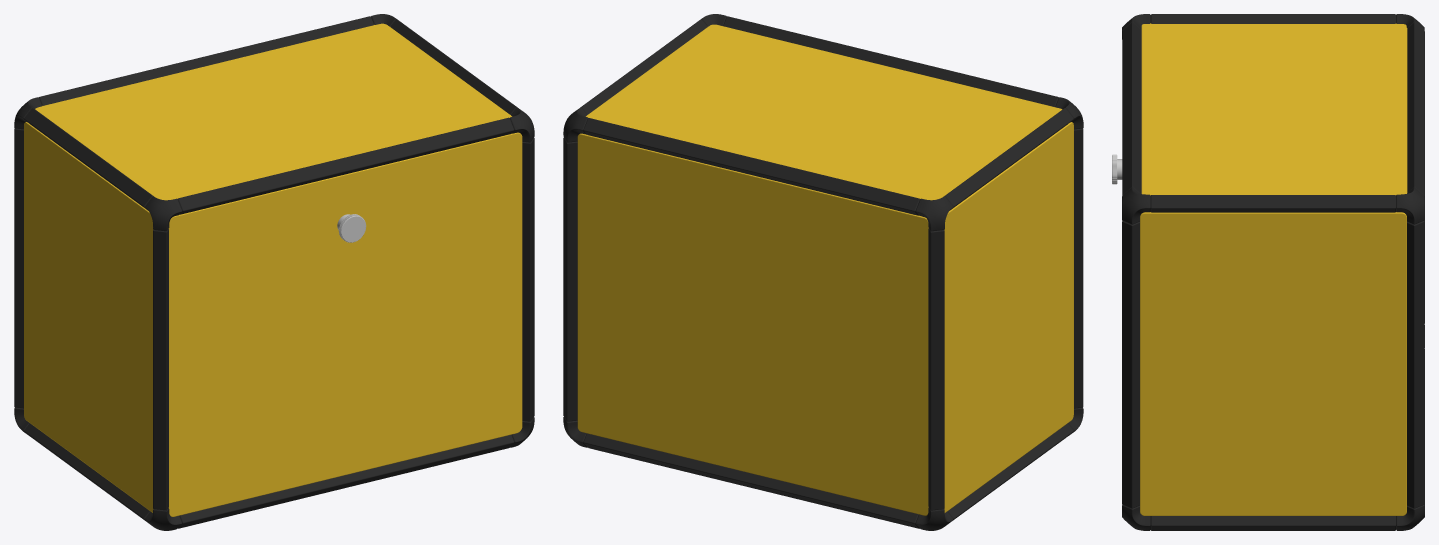
3 renders of one model, left to right at view 1: azimuth 30°, elevation 25°; view 2: azimuth 150°, elevation 25°; view 3: azimuth 270°, elevation 25°, orthographic.
Visible parts, largest first — view 1: 523x329x420; view 2: 523x329x420; view 3: 523x329x420.
Boxes of the visible parts, x1,y1,x2,y2 form: 523x329x420: [14, 14, 534, 530]; 523x329x420: [563, 14, 1083, 530]; 523x329x420: [1112, 14, 1424, 530].
Bounding box in the file's own units: 0.6007 × 0.4976 × 0.4196.
